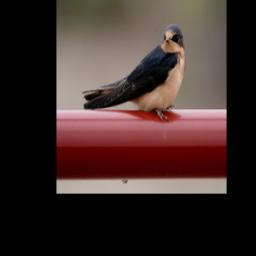Swallow: (81, 20, 186, 127)
